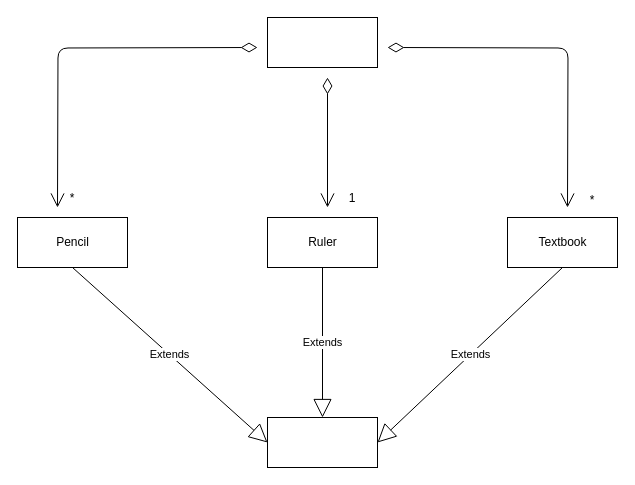
The diagram is 635 pixels wide and 485 high, and some of its shapes have lost their labels. The centre of each missing label's shape, as x and y in pixels:
"Backpack" goes at [322,42].
"Supply" goes at [322,442].
